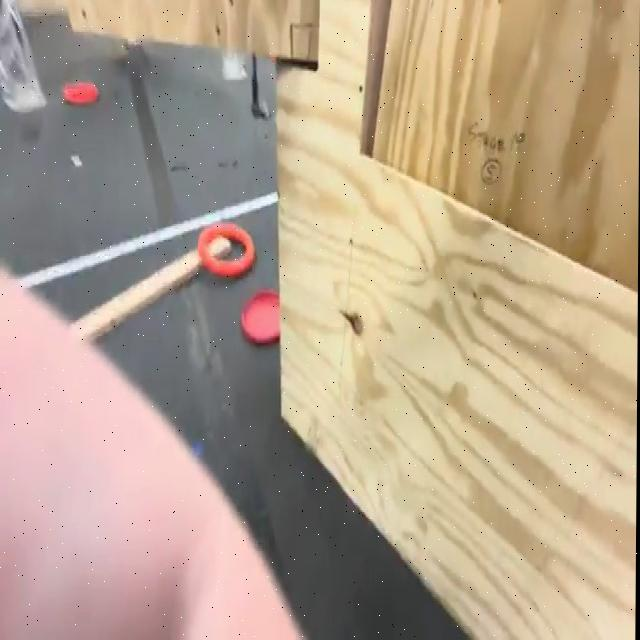note: (195, 224, 256, 277), (60, 79, 102, 105)
